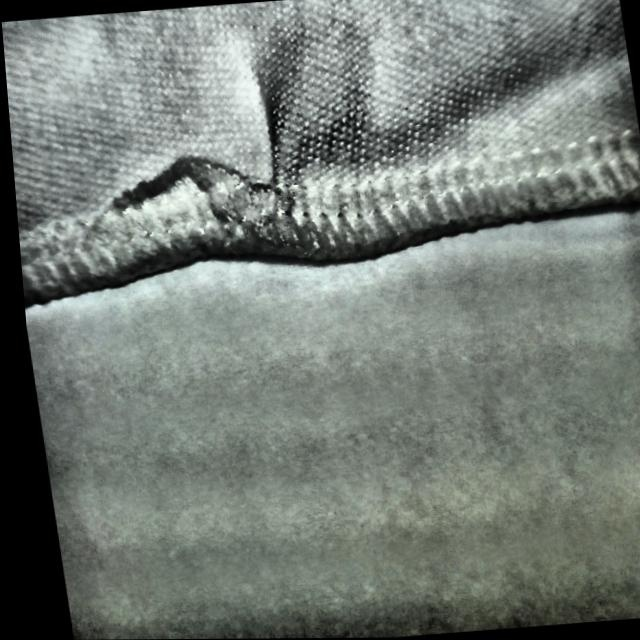seam: (99, 62, 336, 284)
